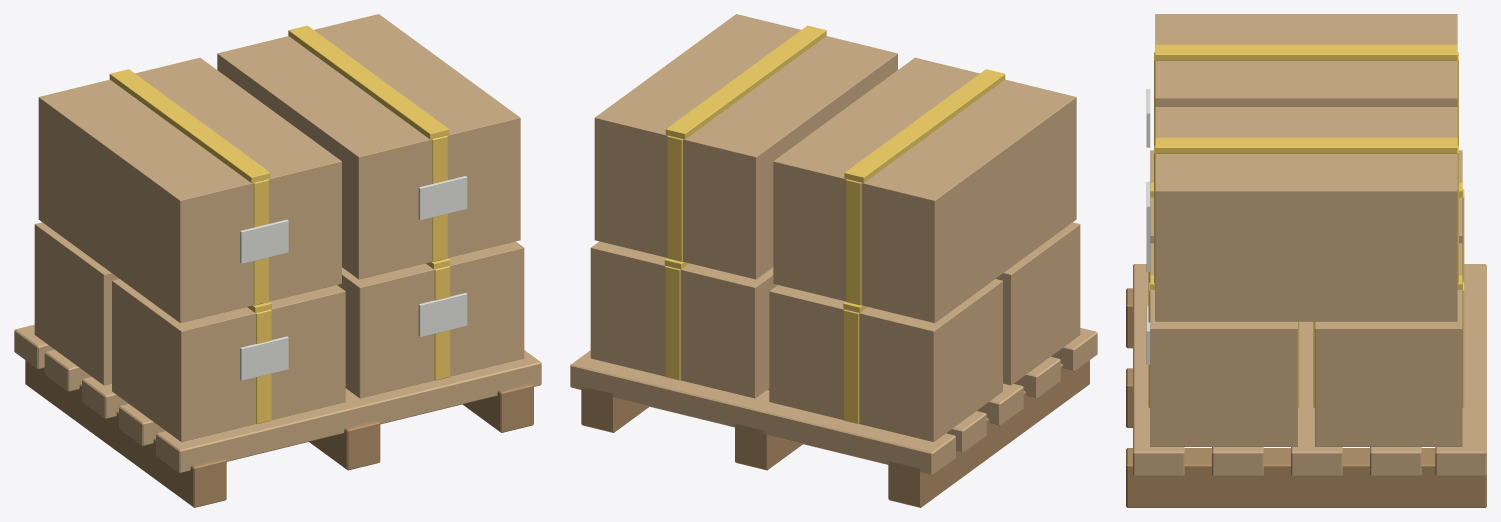
The model's file is Pallet_Boxes.fbx.
The picture shows the model from 3 angles, left to right: view 1: azimuth 30°, elevation 25°; view 2: azimuth 150°, elevation 25°; view 3: azimuth 270°, elevation 25°; orthographic projection. The views are drawn at different scales.
Visible parts, largest first — view 1: Pallet_Boxes_Carton_5__LPCXFER, Pallet_Boxes_Carton_6__LPCXFER, Pallet_Boxes_Carton_1__LPCXFER, Pallet_Boxes__LPCXFER, Pallet_Boxes_Carton_3__LPCXFER, Pallet_Boxes_Carton_2__LPCXFER; view 2: Pallet_Boxes_Carton_5__LPCXFER, Pallet_Boxes_Carton_6__LPCXFER, Pallet_Boxes_Carton_2__LPCXFER, Pallet_Boxes__LPCXFER, Pallet_Boxes_Carton_4__LPCXFER, Pallet_Boxes_Carton_1__LPCXFER; view 3: Pallet_Boxes_Carton_6__LPCXFER, Pallet_Boxes__LPCXFER, Pallet_Boxes_Carton_5__LPCXFER, Pallet_Boxes_Carton_3__LPCXFER, Pallet_Boxes_Carton_4__LPCXFER, Pallet_Boxes_Carton_2__LPCXFER, Pallet_Boxes_Carton_1__LPCXFER.
Boxes of the visible parts, x1,y1,x2,y2 form: Pallet_Boxes_Carton_5__LPCXFER: (38,57,341,322); Pallet_Boxes_Carton_6__LPCXFER: (217,14,520,279); Pallet_Boxes_Carton_1__LPCXFER: (112,279,345,441); Pallet_Boxes__LPCXFER: (14,324,541,507); Pallet_Boxes_Carton_3__LPCXFER: (337,241,524,398); Pallet_Boxes_Carton_2__LPCXFER: (34,222,119,385); Pallet_Boxes_Carton_5__LPCXFER: (773,57,1076,323); Pallet_Boxes_Carton_6__LPCXFER: (594,14,897,279); Pallet_Boxes_Carton_2__LPCXFER: (769,279,1002,441); Pallet_Boxes__LPCXFER: (570,328,1097,507); Pallet_Boxes_Carton_4__LPCXFER: (590,241,777,398); Pallet_Boxes_Carton_1__LPCXFER: (996,222,1080,385); Pallet_Boxes_Carton_6__LPCXFER: (1146,107,1458,321); Pallet_Boxes__LPCXFER: (1126,264,1486,507); Pallet_Boxes_Carton_5__LPCXFER: (1146,14,1458,147); Pallet_Boxes_Carton_3__LPCXFER: (1146,243,1299,446); Pallet_Boxes_Carton_4__LPCXFER: (1313,243,1464,446); Pallet_Boxes_Carton_2__LPCXFER: (1459,150,1464,282); Pallet_Boxes_Carton_1__LPCXFER: (1146,150,1153,282).
Size of the model in its own units: 130 by 104 by 105.
